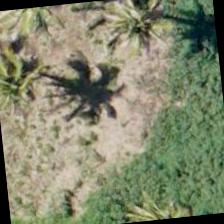Kelapa_Sawit: (0, 33, 65, 130), (117, 0, 214, 64)
